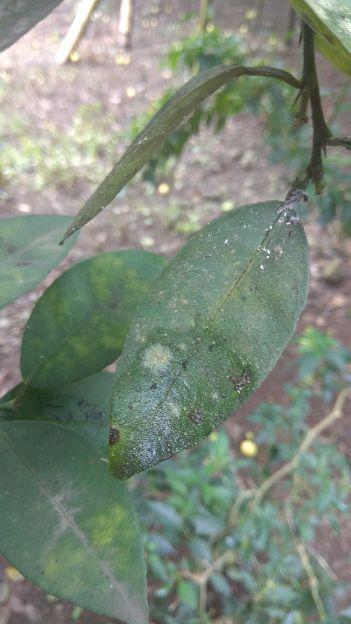Myzus persicae: (214, 205, 298, 275)
